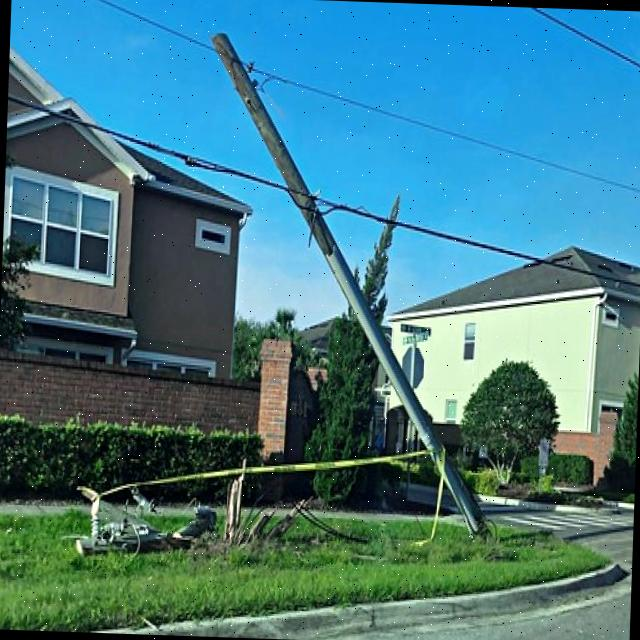Broken Pole: (210, 30, 491, 538)
